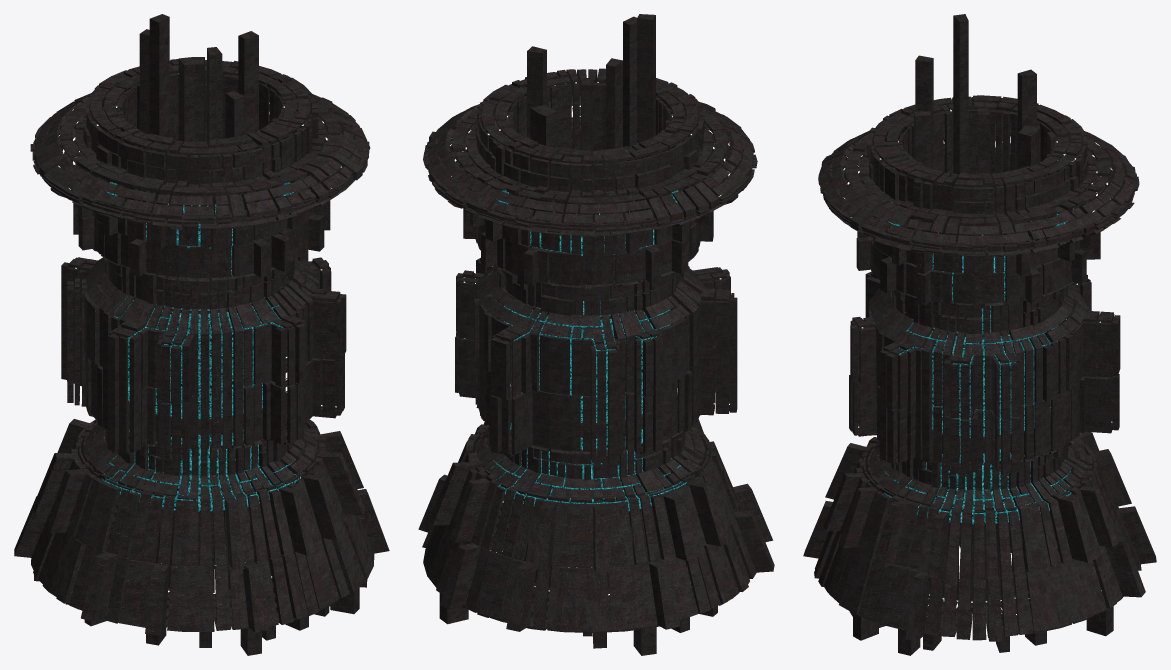
File: centinel_beam.glb
3 views of the same model, side by side, from view 1: azimuth 30°, elevation 25°; view 2: azimuth 150°, elevation 25°; view 3: azimuth 270°, elevation 25° (orthographic). The views are drawn at different scales.
Parts seen in each view (by area): view 1: CENTINEL_1; view 2: CENTINEL_1; view 3: CENTINEL_1.
Part boxes in pixels (box(x1,y1,x2,y2)): CENTINEL_1: box(14, 14, 389, 655); CENTINEL_1: box(418, 14, 774, 655); CENTINEL_1: box(803, 14, 1156, 655).
Size of the model in its own units: 1.48 by 2.65 by 1.52.
2 materials, 2 textured.
